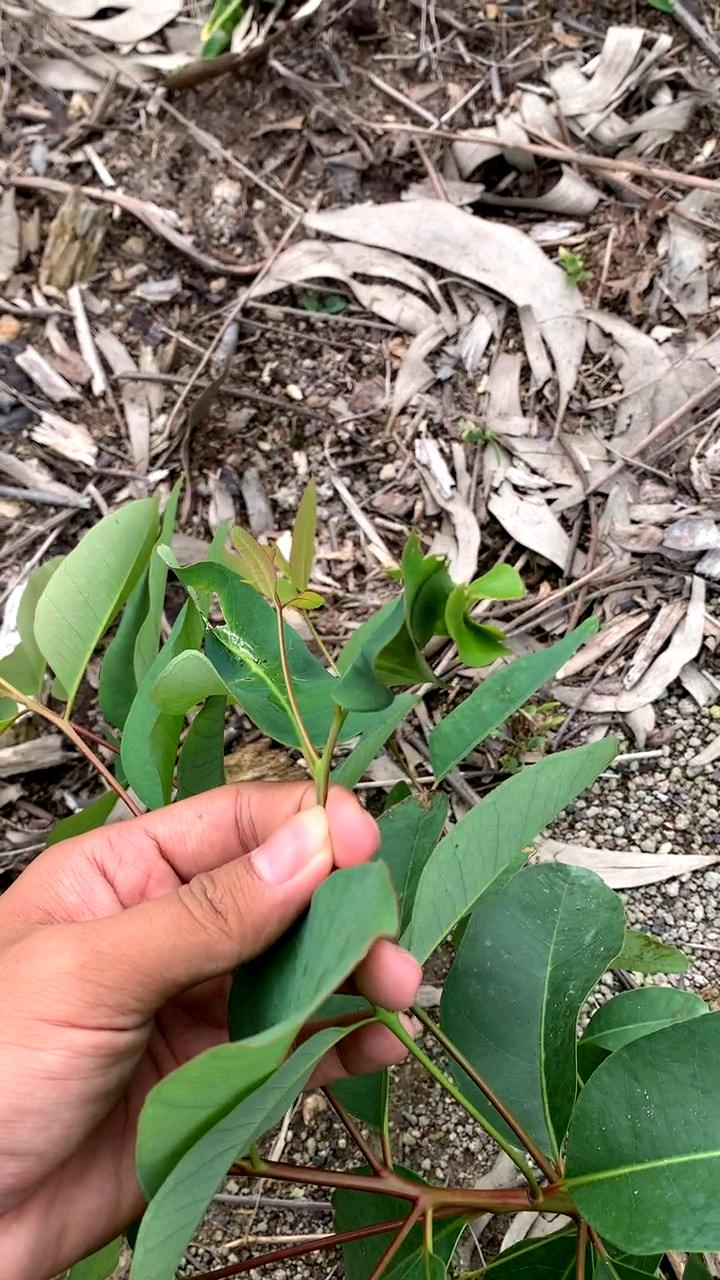Leaf Roller - Leaf: (309, 533, 540, 746)
